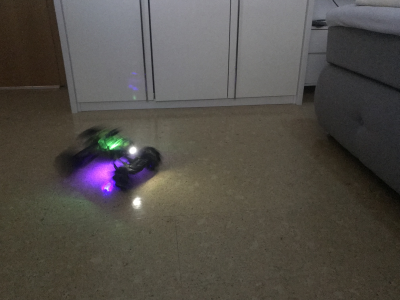remote control car: (51, 124, 163, 191)
